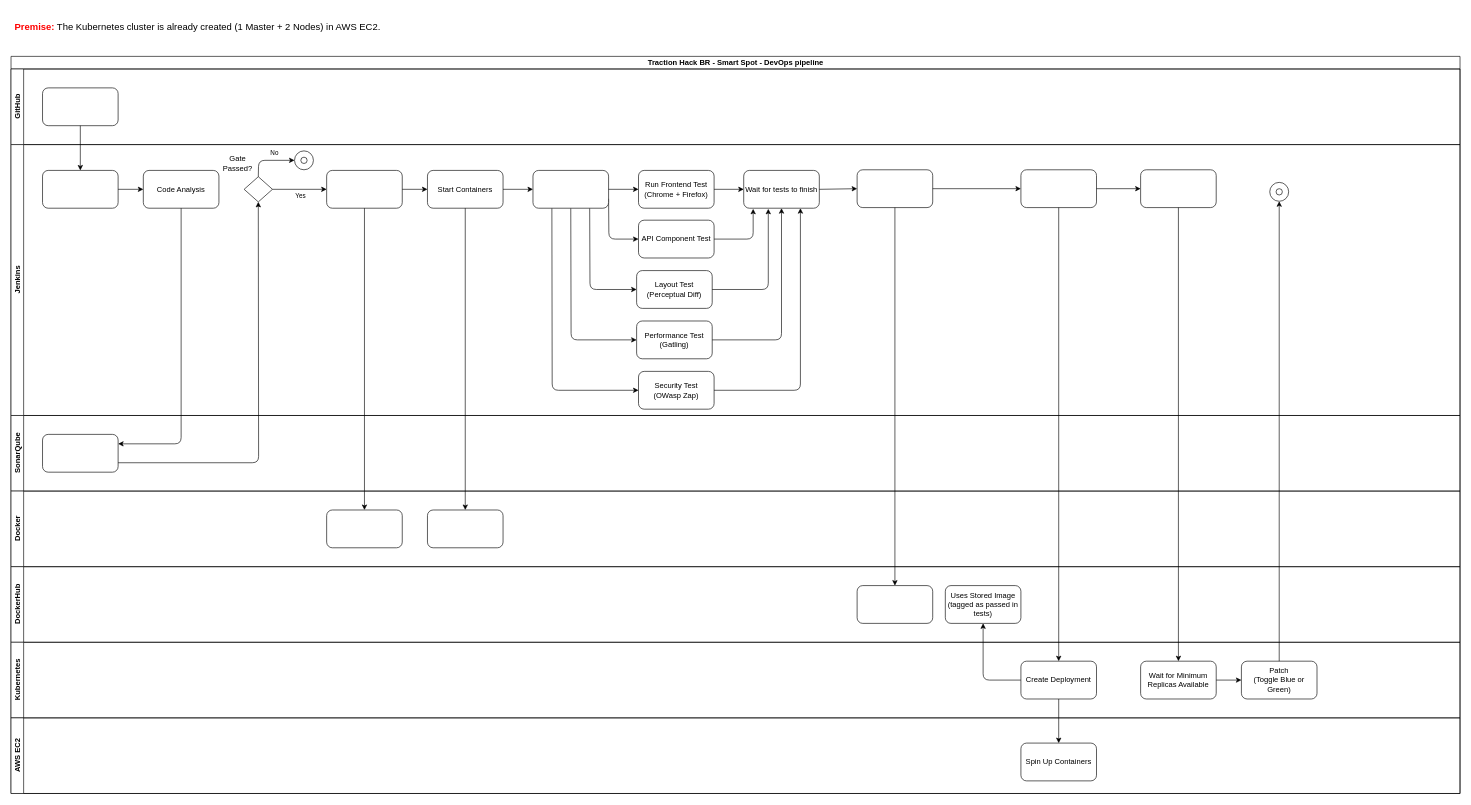
Image size: 1471x805. Some labels were removed from this diagram. The shapes that lost their labels are listed below. From the top down, each one's centre as x and y in pixels, then its label:
At point (80, 106): "Code Push triggers webhook".
At point (80, 189): "Start Smart Spot application pipeline".
At point (364, 189): "Build Image (Dockerfile)".
At point (570, 189): "Wait for application to start".
At point (894, 188): "Publish Image (Registry)".
At point (1058, 188): "Deploy Image to Cluster".
At point (1178, 188): "Toggle Blue/Green Environments".
At point (80, 453): "Ruby on Rails code analysis + unit test coverage".
At point (364, 528): "Build and Store image locally".
At point (465, 528): "Spin Up Application (Smart Spot)".
At point (894, 604): "Validated Image (tagged as passed in tests)".
